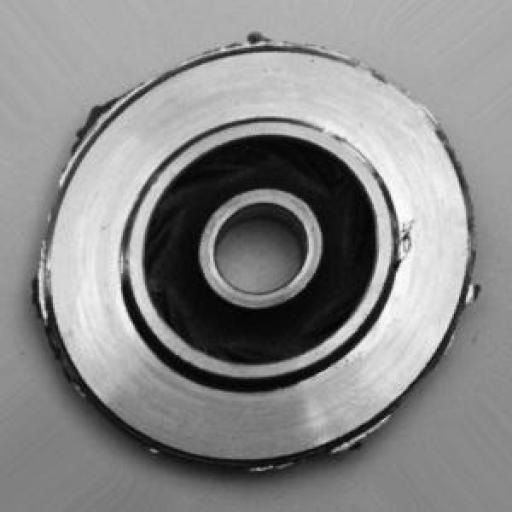defect: (40, 27, 488, 476)
